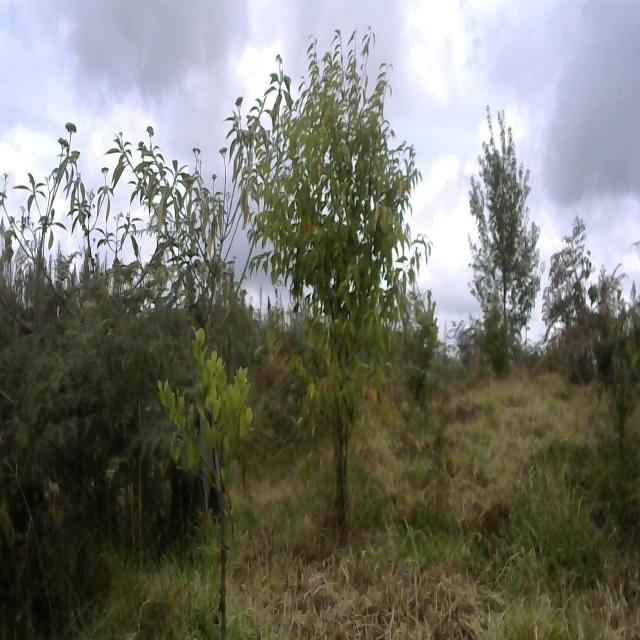Lemon Myrtle: (256, 22, 412, 490), (168, 329, 268, 598)
